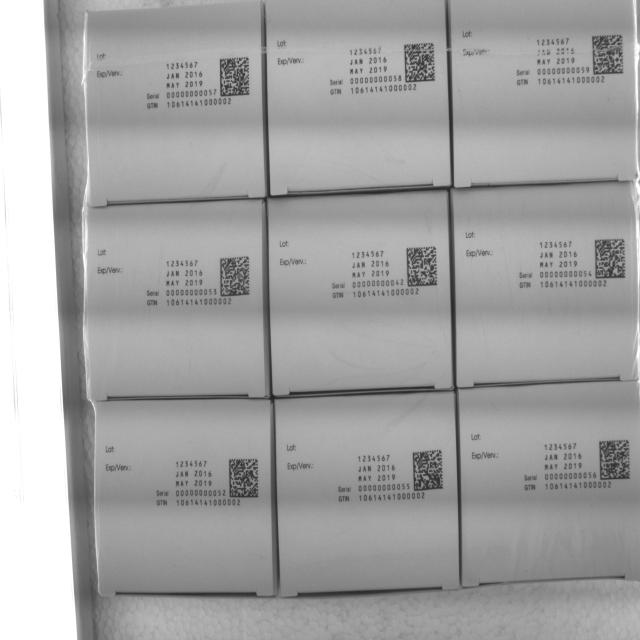datamatrix: (404, 43, 438, 87), (219, 254, 253, 298), (599, 438, 633, 482), (591, 33, 625, 76), (594, 239, 628, 282), (406, 245, 439, 289), (413, 449, 446, 493), (229, 456, 262, 500), (220, 55, 253, 98)
